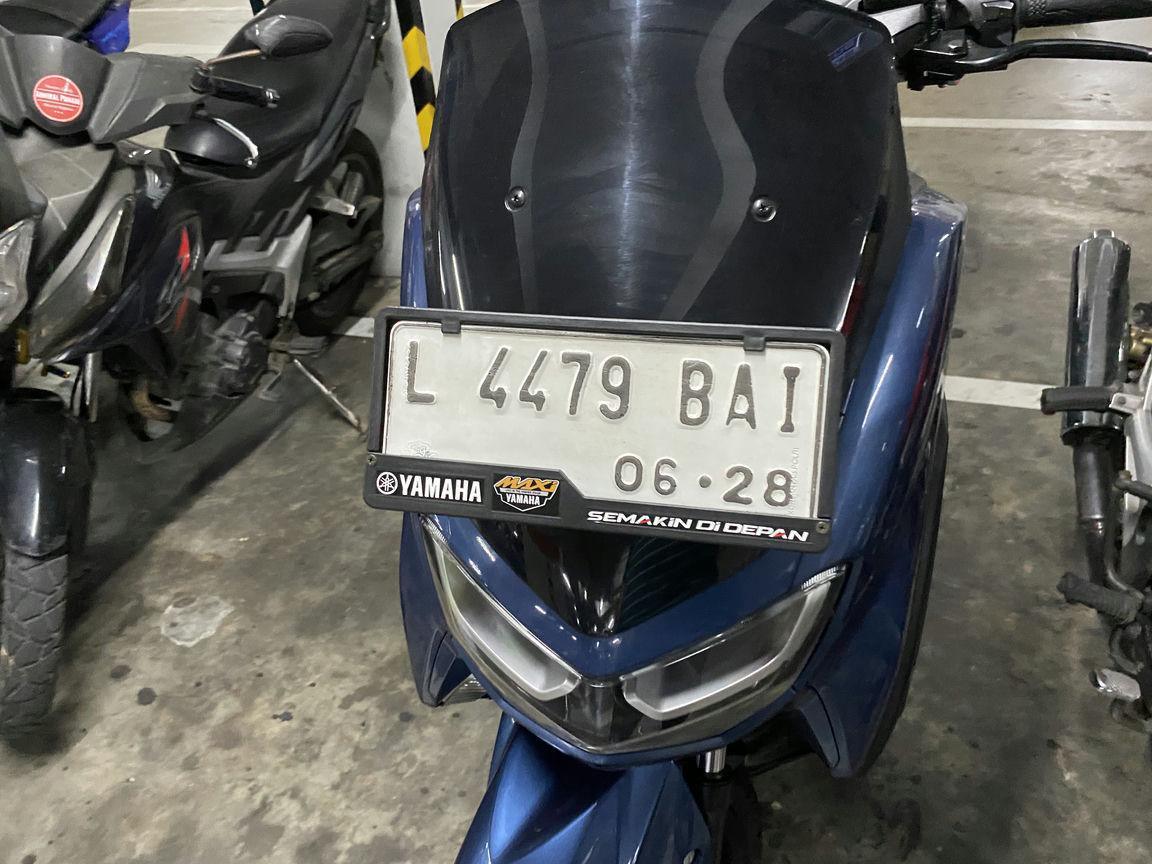plat: (364, 308, 844, 551)
